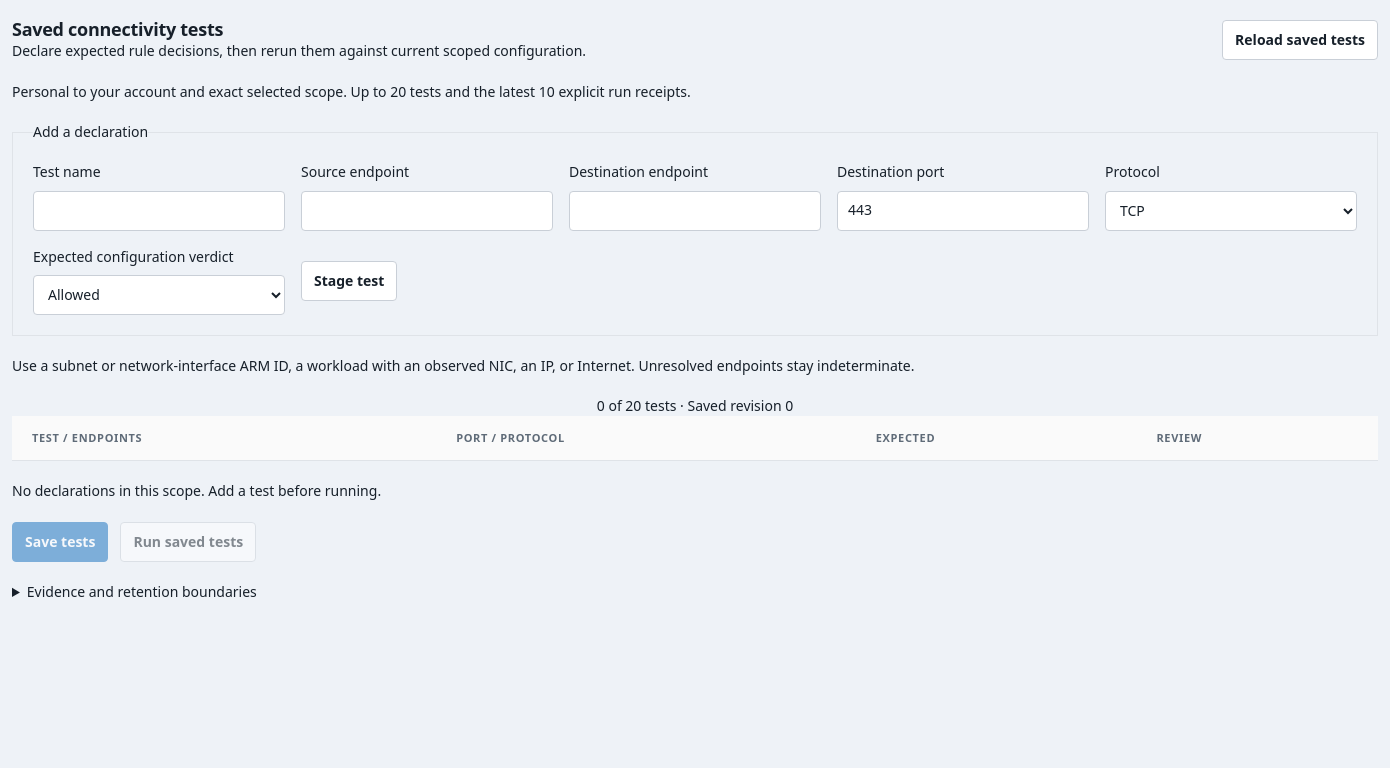
Test: Saved connectivity declarations › stages declarations before saving and withholds run while dirty or editing
Expected: the text "No declarations in this scope. Add a test before running." is shown, [12,481,381,500]
In the field labelled "Test name": [159, 211] box [33,191,285,231], type "Internet blocked"
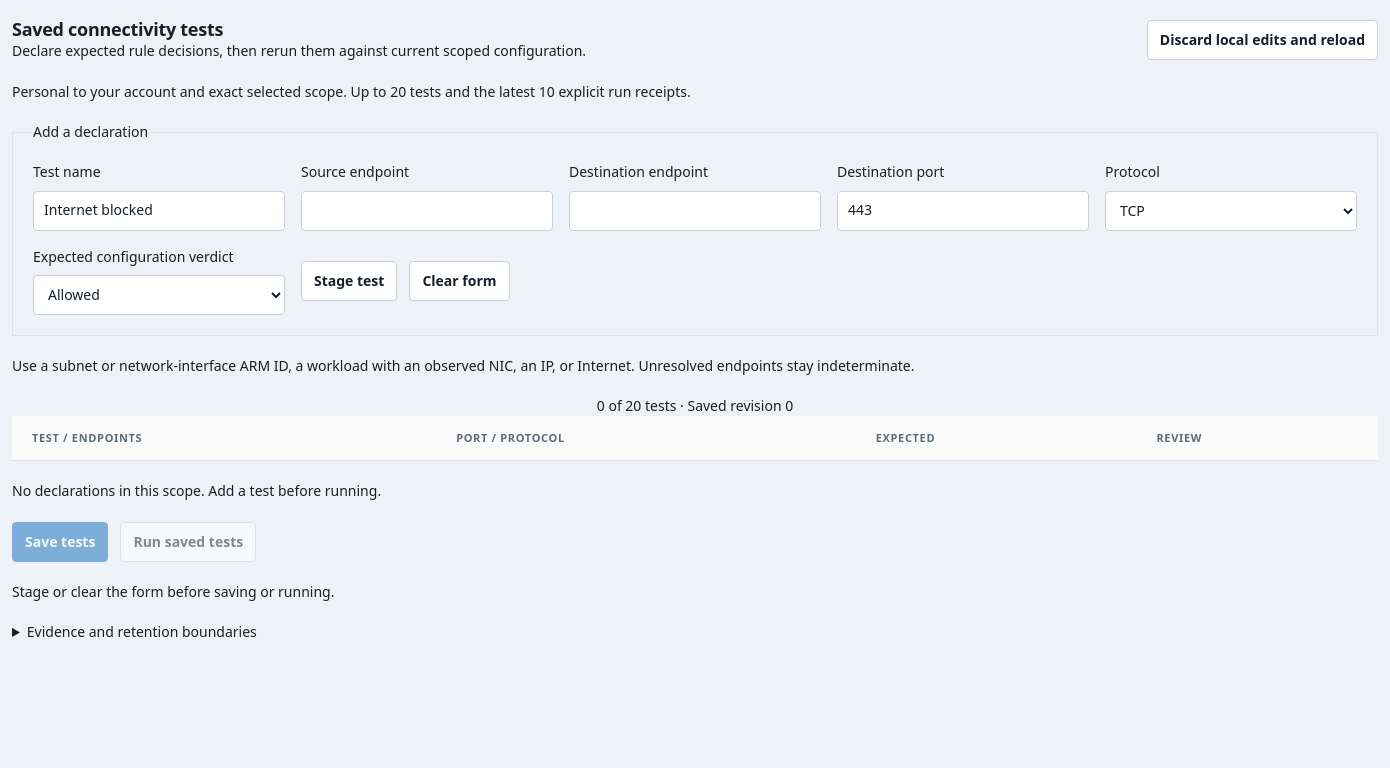
In the field labelled "Source endpoint": [427, 211] box [301,191,553,231], type "10.0.0.7"
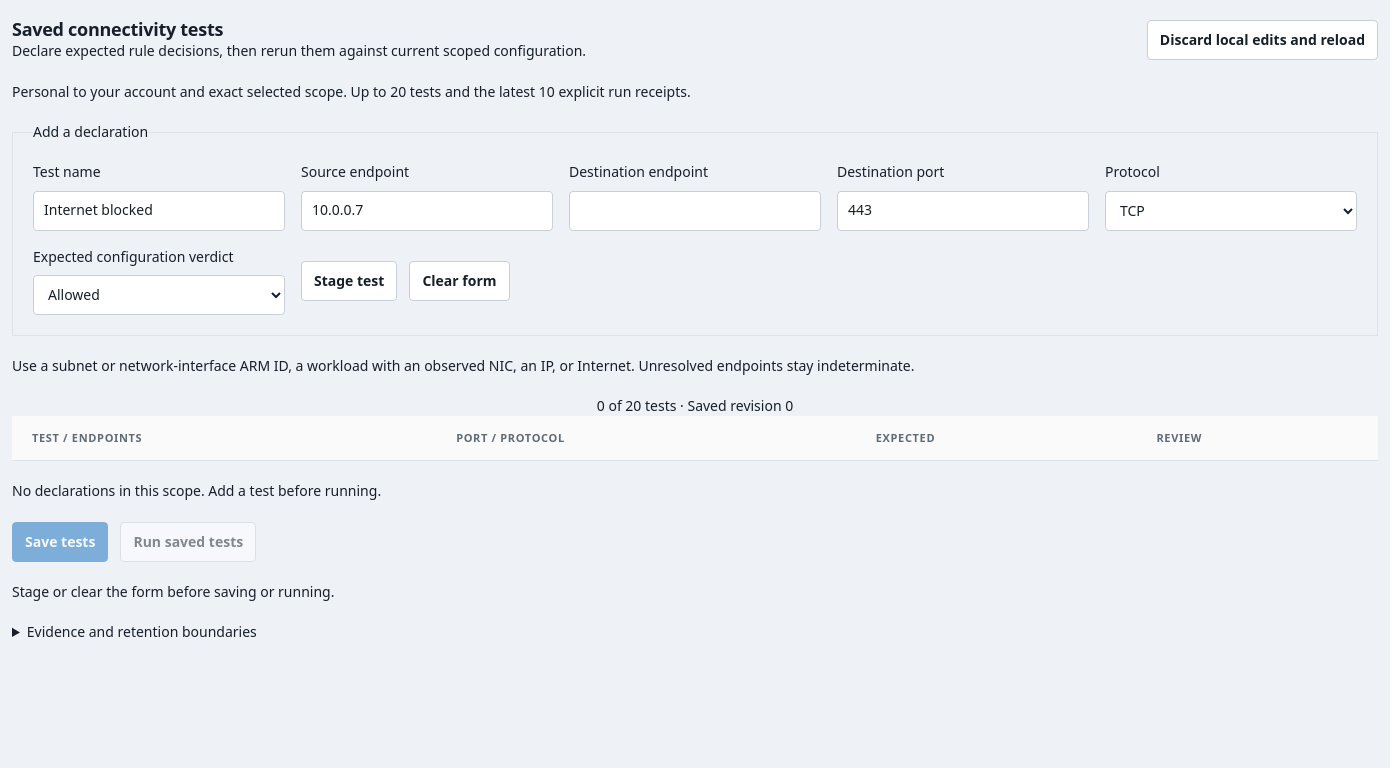
In the field labelled "Destination endpoint": [695, 211] box [569,191,821,231], type "Internet"
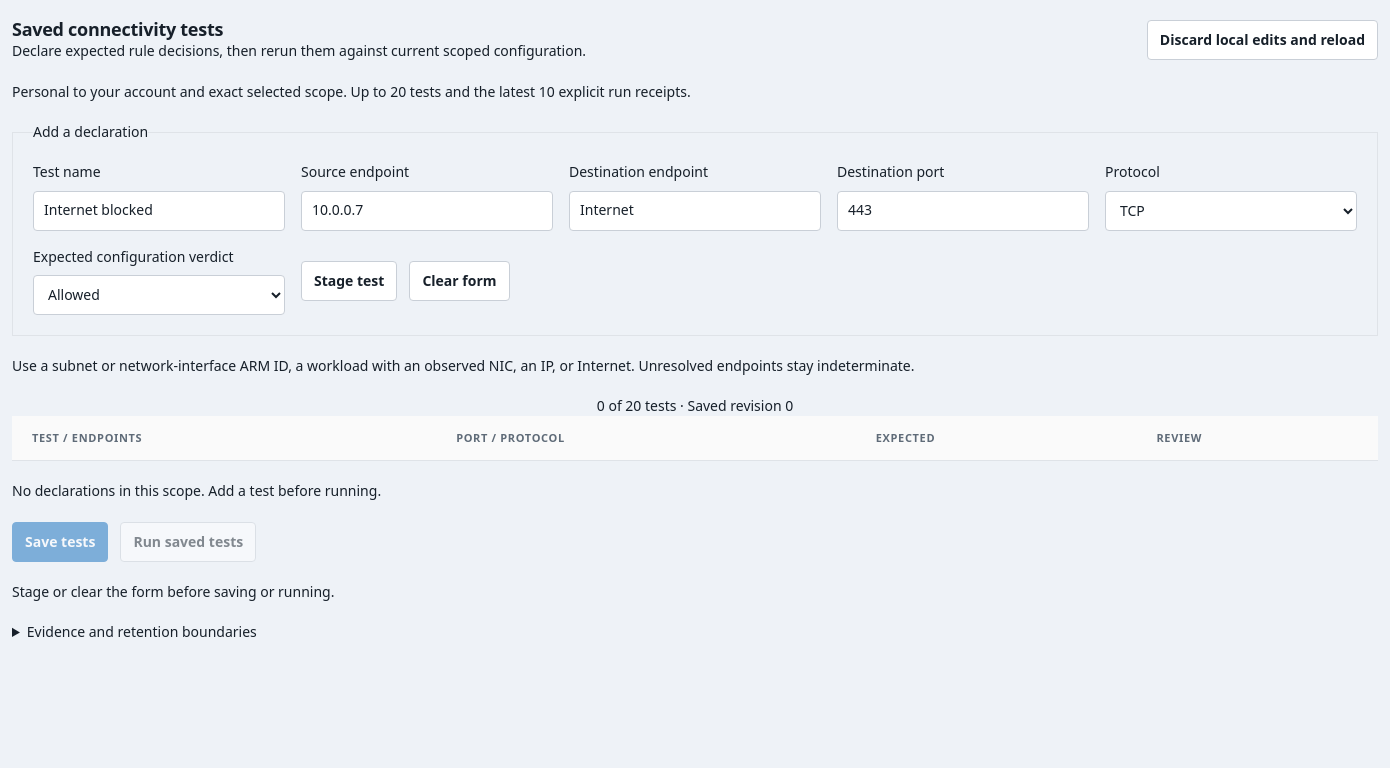
Select "Denied" in the dropdown labelled "Expected configuration verdict": [159, 295] box [33,275,285,315]
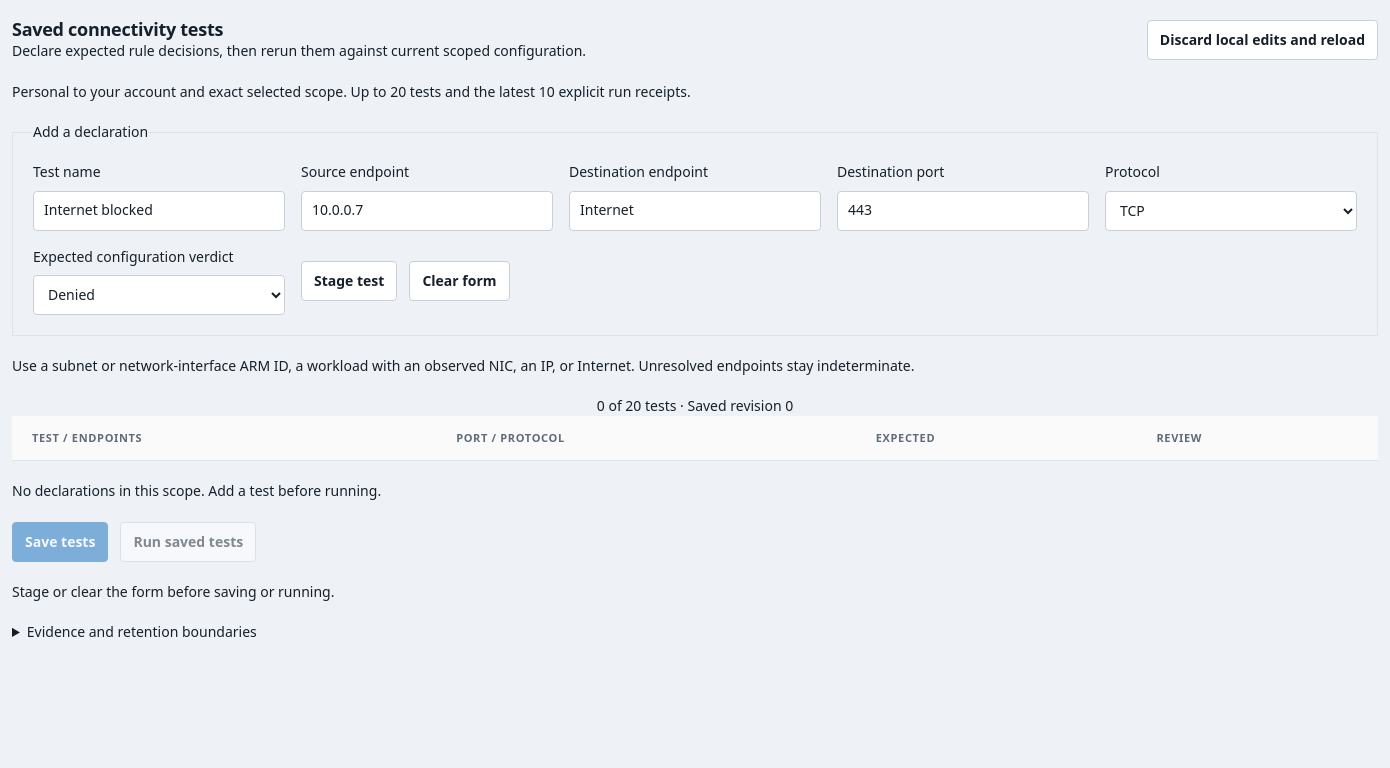
Expected: the button "Run saved tests" is disabled, [120,522,256,562]
Click the button "Stage test": [349, 281] box [301,261,397,301]
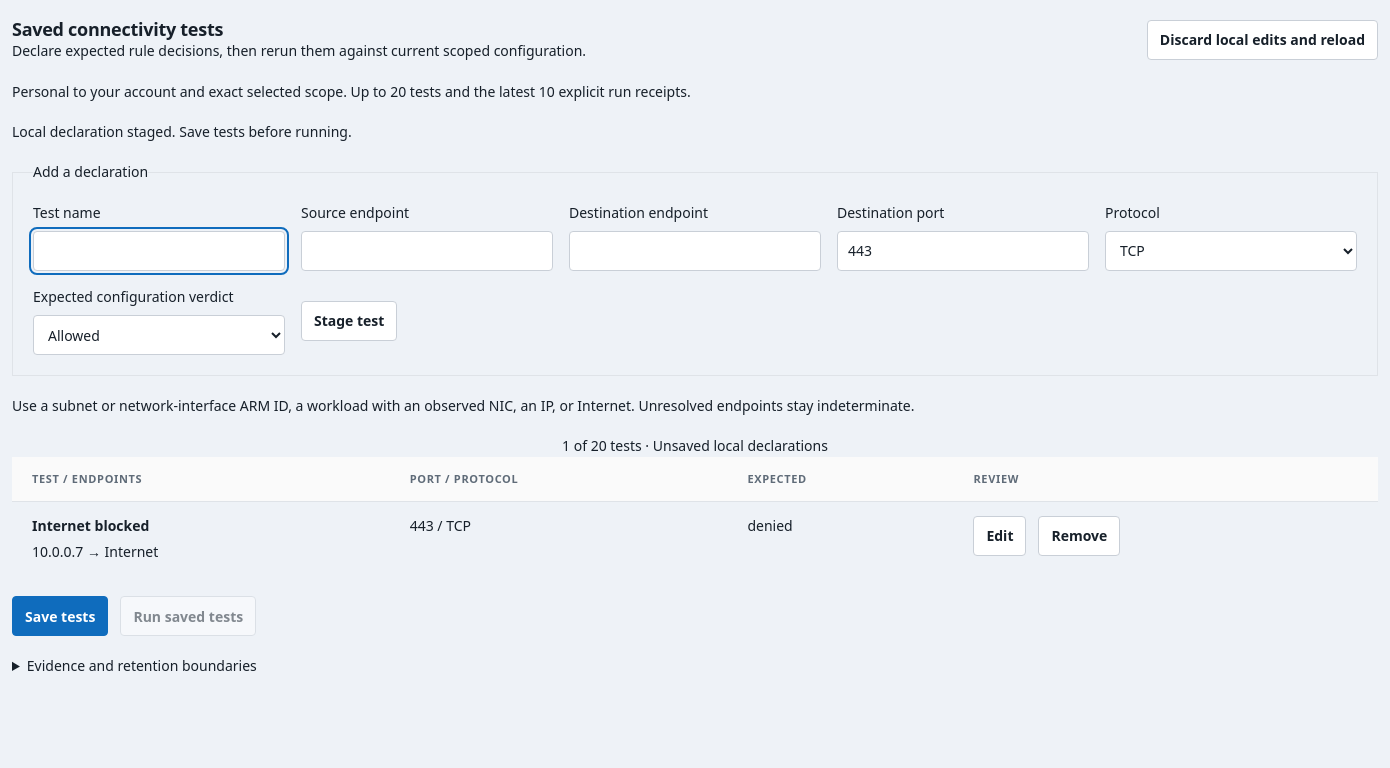
Expected: the button "Run saved tests" is disabled, [120,596,256,636]
Click the button "Save tests": [60, 616] box [12,596,108,636]
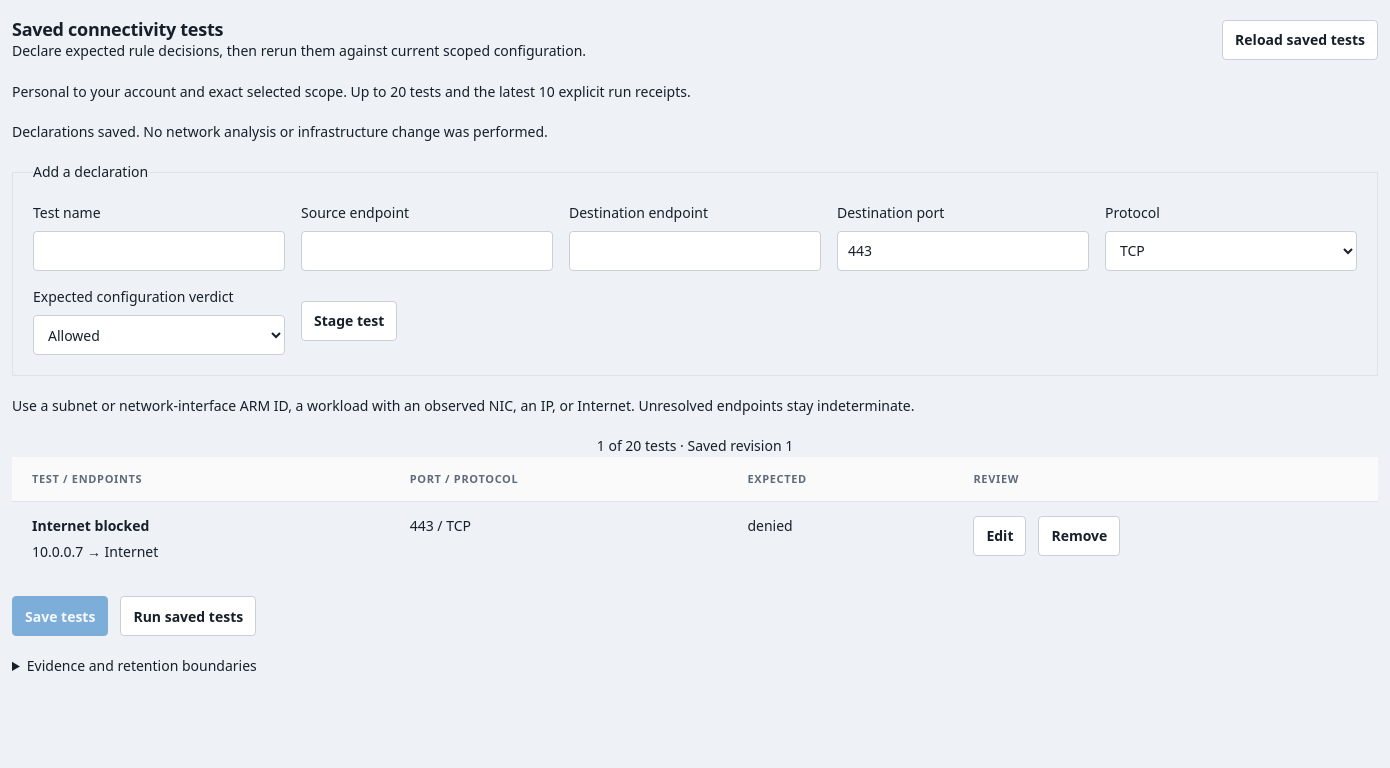
Expected: the text "Declarations saved" is shown, [12,122,548,141]
Expected: the button "Run saved tests" is enabled, [120,596,256,636]
